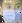with_mask: (2, 1, 22, 23)
